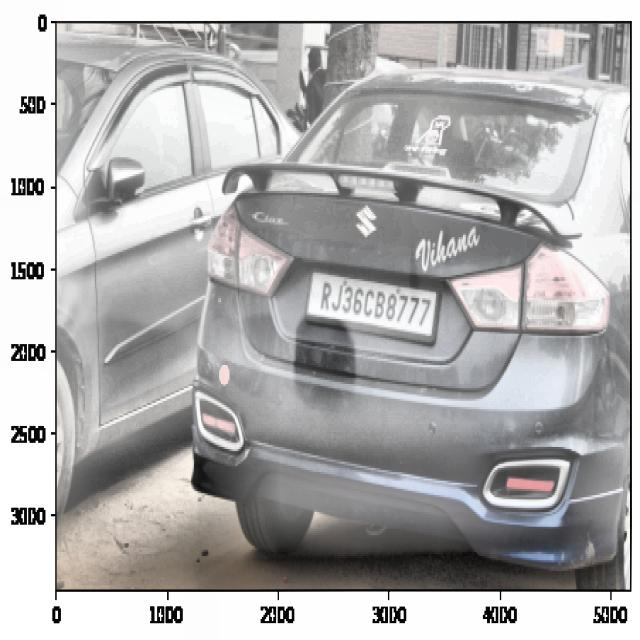license_plate: (316, 276, 434, 336)
